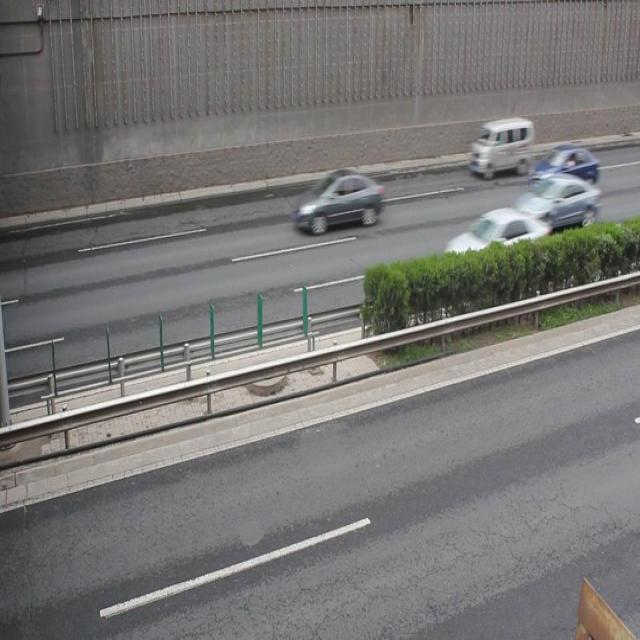car: (441, 210, 550, 283), (296, 172, 383, 233), (511, 175, 599, 232), (533, 145, 598, 193)
truck: (467, 117, 532, 179)
